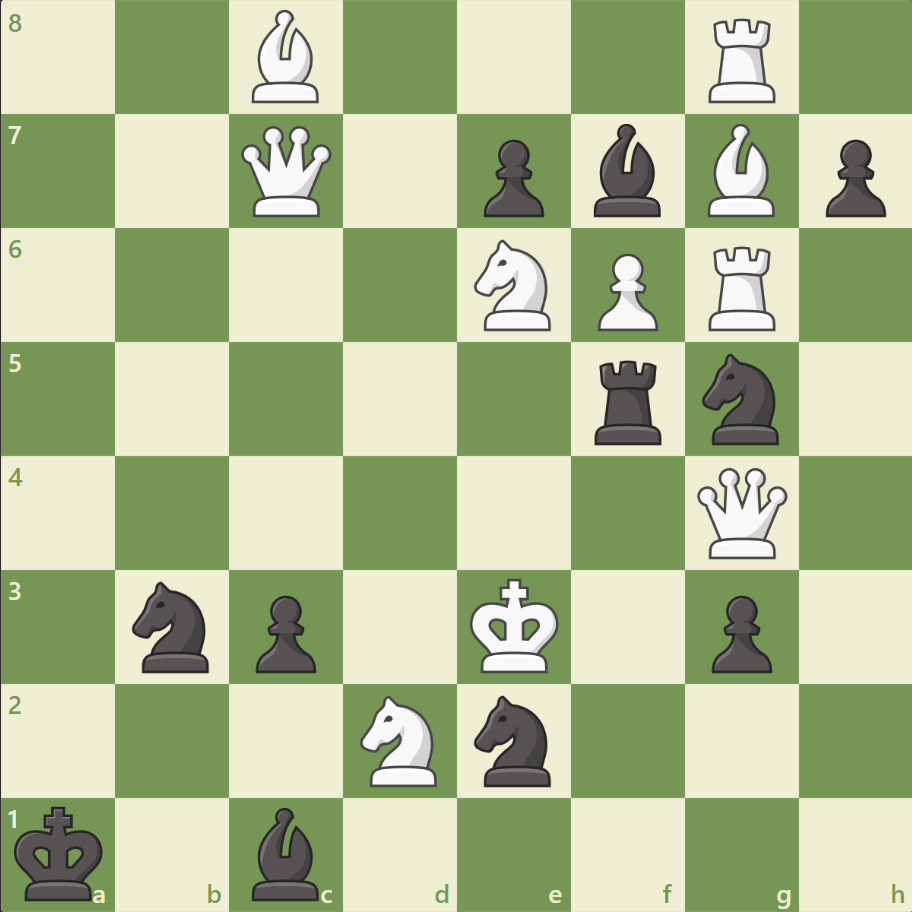B: (244, 6, 328, 109), (698, 120, 782, 222)
K: (465, 571, 565, 679)
N: (351, 688, 449, 791), (465, 234, 562, 337)
P: (588, 246, 662, 337)
Q: (237, 122, 336, 222), (691, 463, 790, 562)
R: (700, 12, 783, 109), (700, 239, 783, 336)
b: (244, 801, 328, 904), (585, 120, 669, 222)
k: (11, 798, 111, 906)
n: (124, 575, 222, 677), (465, 688, 562, 791), (692, 348, 789, 450)
p: (474, 132, 549, 223), (247, 586, 322, 677), (701, 586, 776, 677), (815, 132, 889, 223)
r: (587, 352, 670, 449)
